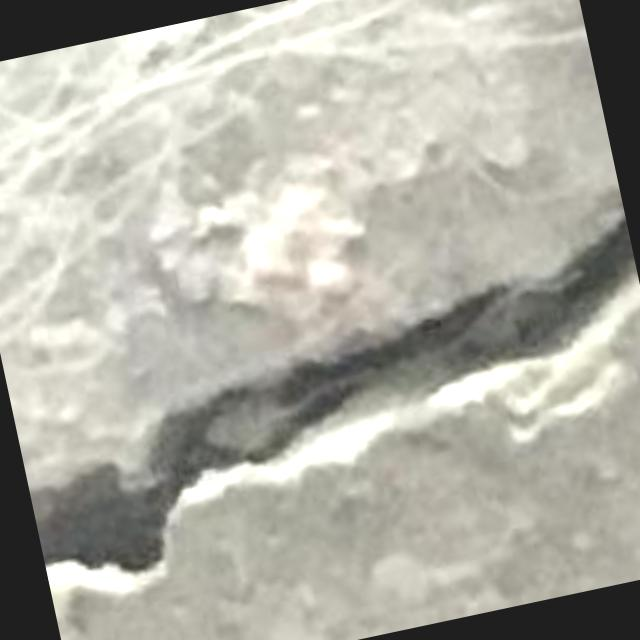crack: (30, 215, 639, 614)
